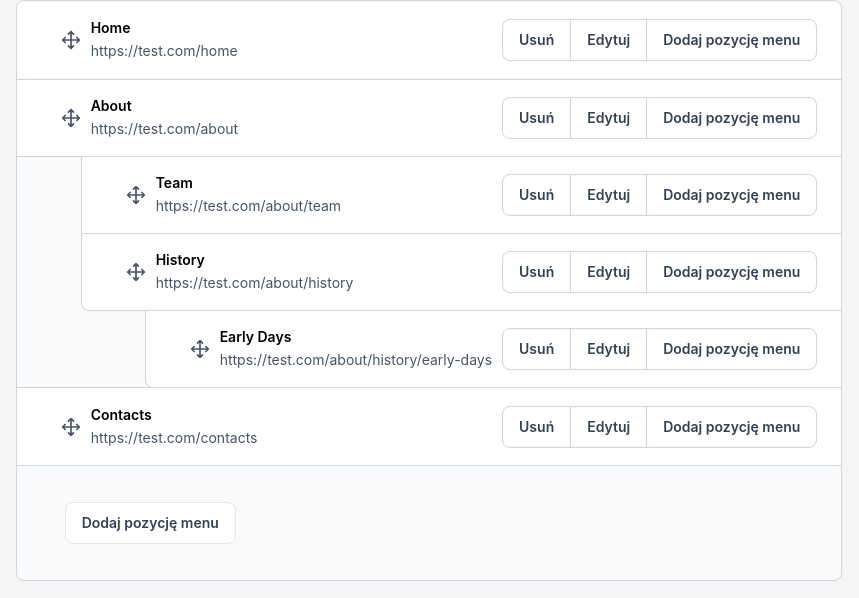
Test: MenuContainer › renders delete button and deletes menu item on click
The width and height of the screenshot is (859, 598).
Expected: the heading "Home" is shown, [91,19,130,36]
Expected: the heading "About" is shown, [91,97,132,114]
Click the 1st button "Usuń": (537, 40) [503,20,570,60]
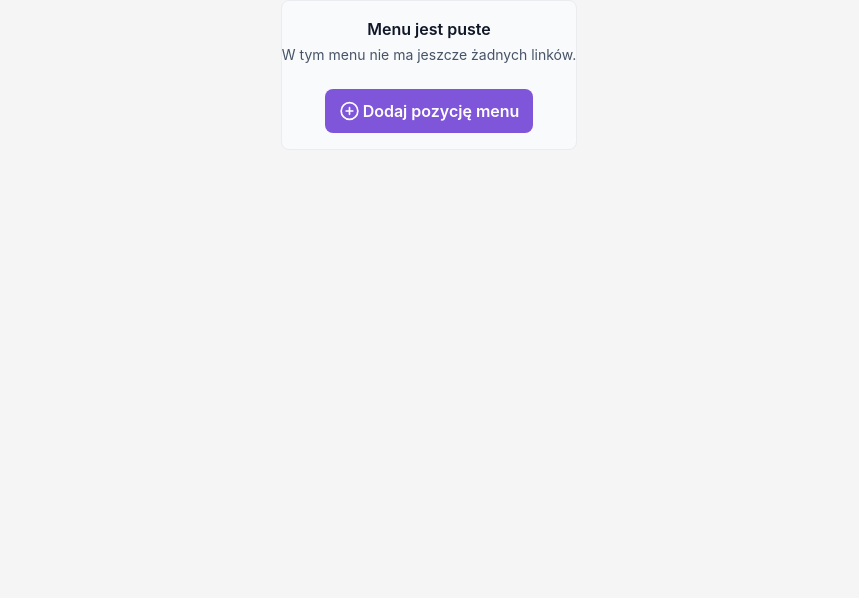
Now the button "Home" is gone
